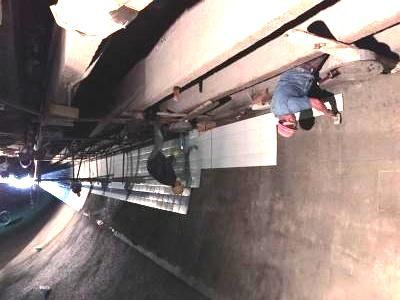helmet: (276, 113, 298, 137), (171, 181, 185, 195)
